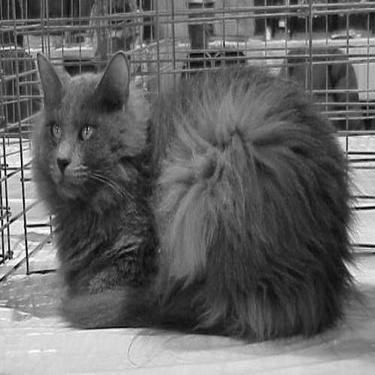cat: (5, 17, 351, 337)
